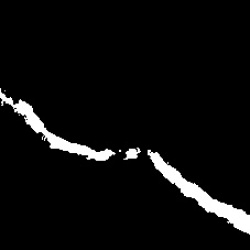crack: (2, 92, 249, 233)
